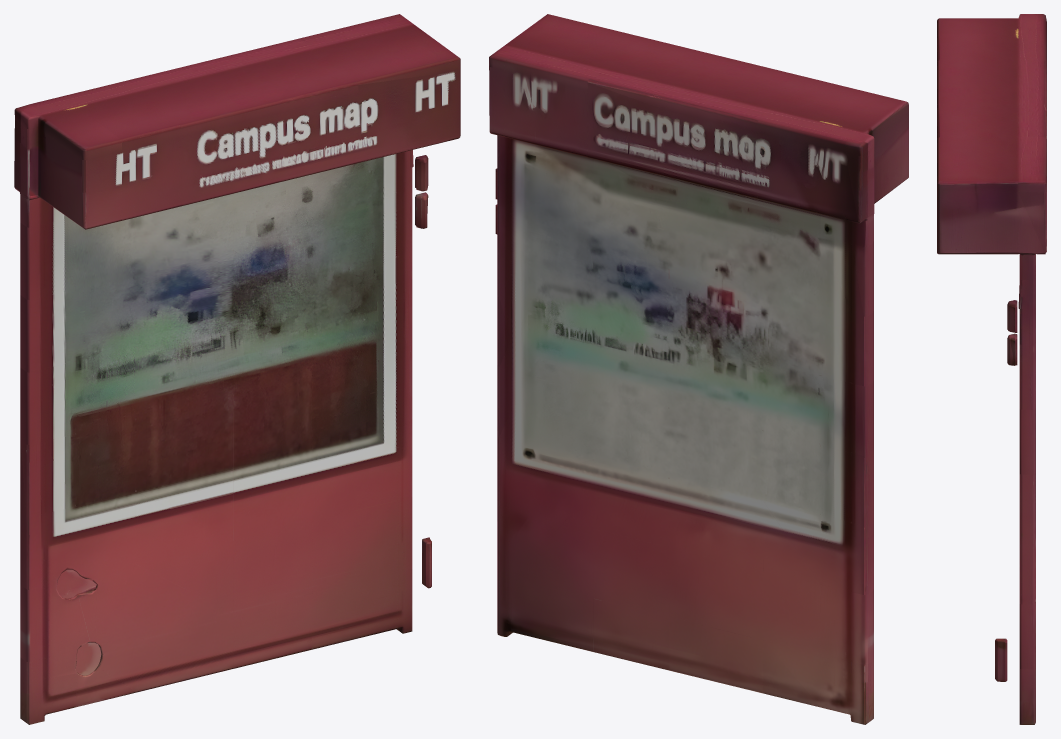
Rendered from information_kiosk.glb.
The picture shows the model from 3 angles, left to right: view 1: azimuth 30°, elevation 25°; view 2: azimuth 150°, elevation 25°; view 3: azimuth 270°, elevation 25°; orthographic projection. The views are drawn at different scales.
Size of the model in its own units: 1.3 by 1.91 by 0.3483.
Materials: 1 (1 with a texture image).
